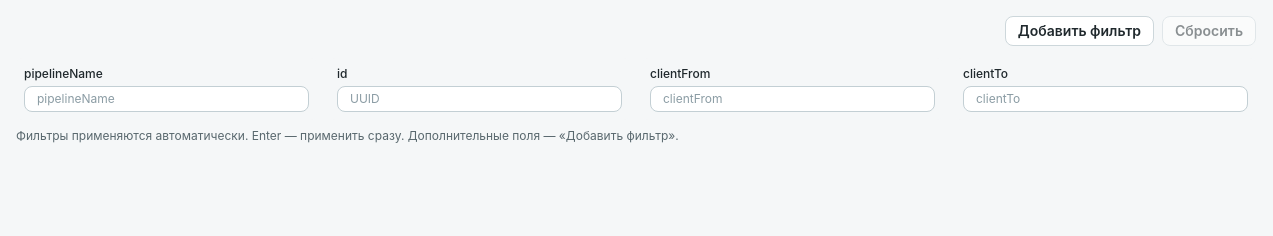
usable filters › chip removal cancels a newer pending value
Type "first" into the field labelled "id".
click(480, 99); type("first")  # box x1=337 y1=86 x2=622 y2=112
Wait 1000 ms
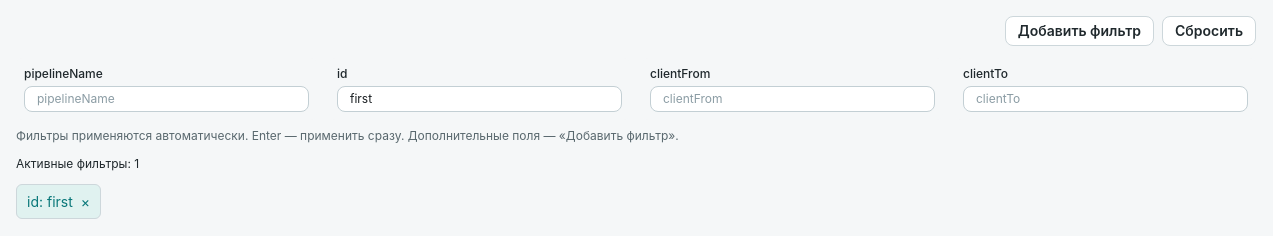
Replace the text in the field labelled "id" with "second" at (480, 99), box x1=337 y1=86 x2=622 y2=112
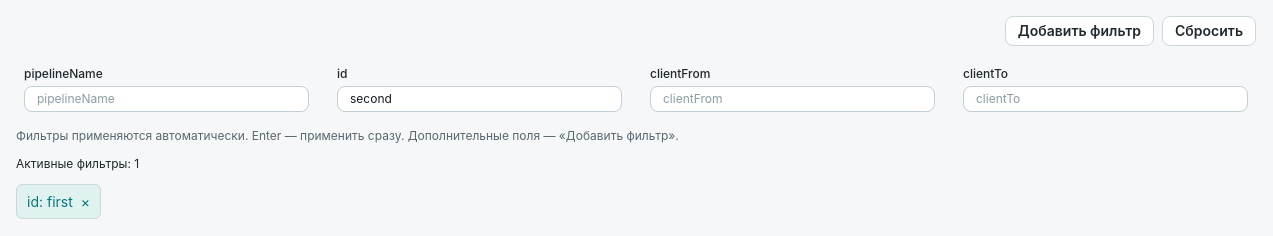
Click the button with aria-label "Убрать фильтр: id".
click(58, 202)  # box x1=16 y1=184 x2=101 y2=219
Wait 1500 ms
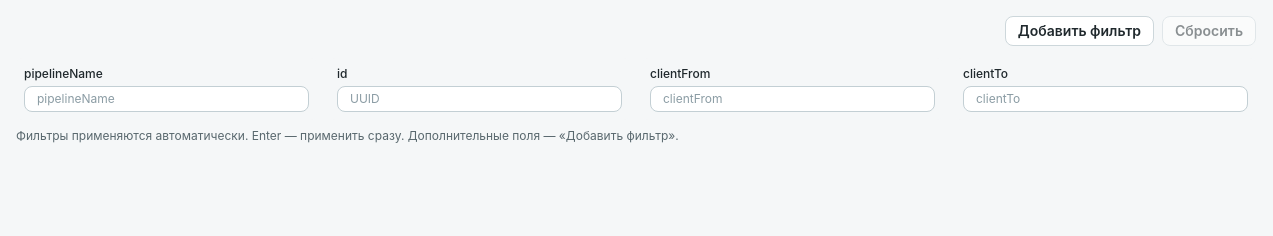
Result: the field labelled "id" is empty at x1=337 y1=86 x2=622 y2=112
